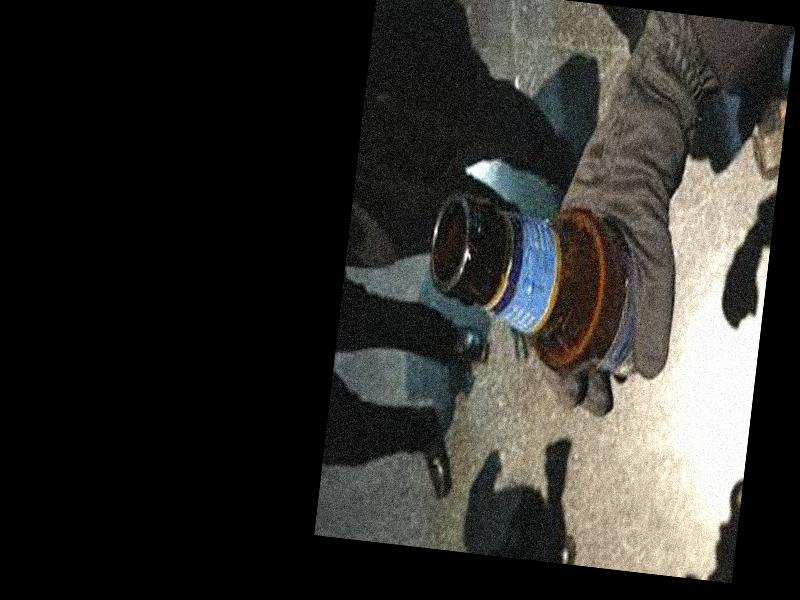Beer: (417, 186, 670, 391)
